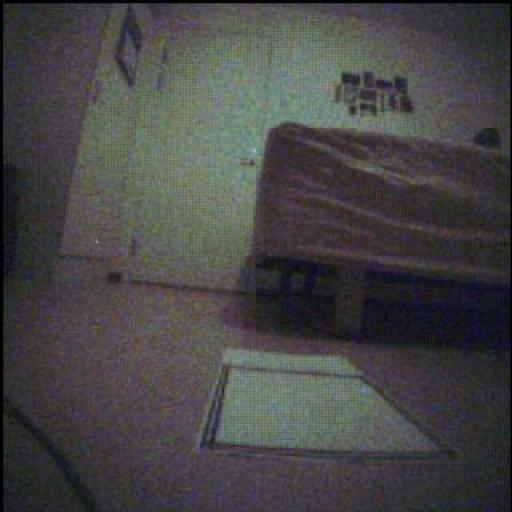pad: (201, 350, 455, 460)
